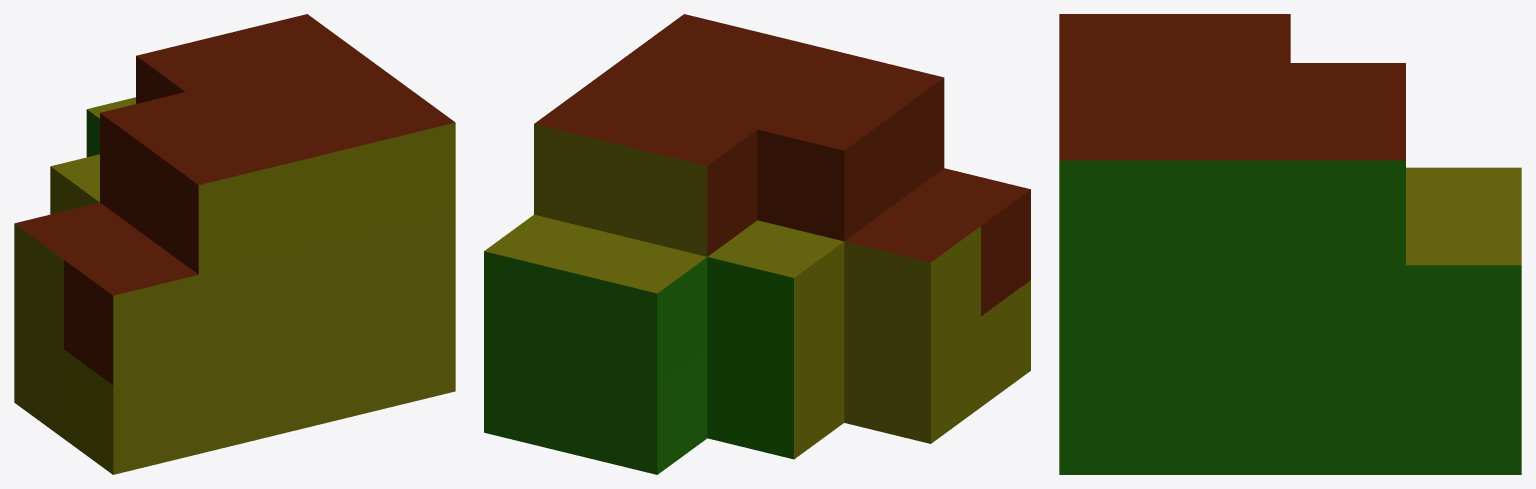
Rendered from block_27.fbx.
3 renders of one model, left to right at view 1: azimuth 30°, elevation 25°; view 2: azimuth 150°, elevation 25°; view 3: azimuth 270°, elevation 25°, orthographic. The views are drawn at different scales.
Parts seen in each view (by area): view 1: box; view 2: box; view 3: box.
Boxes of the visible parts, x1,y1,x2,y2 form: box: (14, 14, 455, 474); box: (484, 14, 1030, 474); box: (1059, 14, 1521, 474).
Bounding box in the file's own units: 400 × 300 × 400.
Materials: 1 (1 with a texture image).
